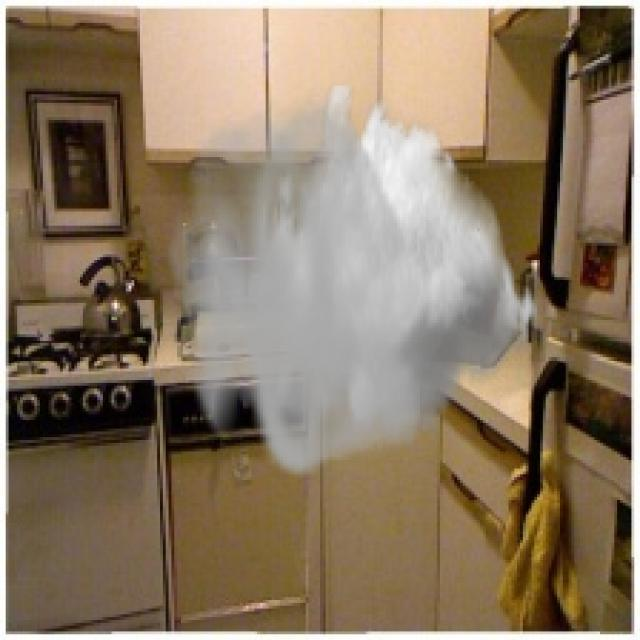Smoke: (168, 86, 540, 483)
